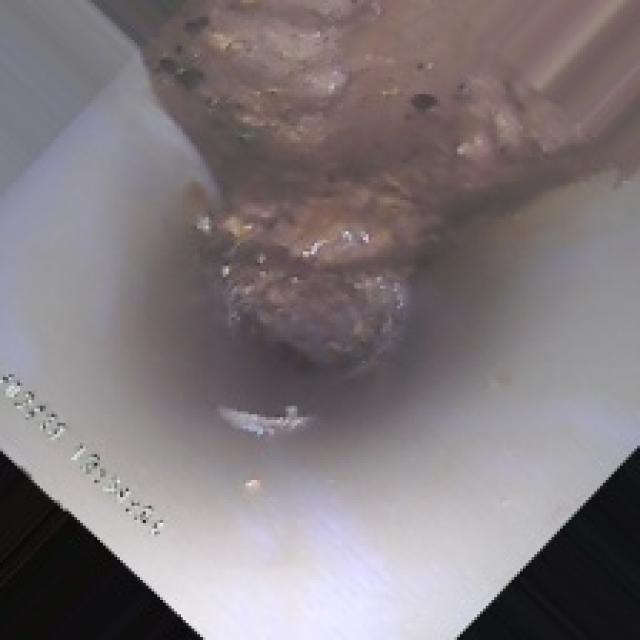sluge accumulation: (134, 6, 620, 360)
